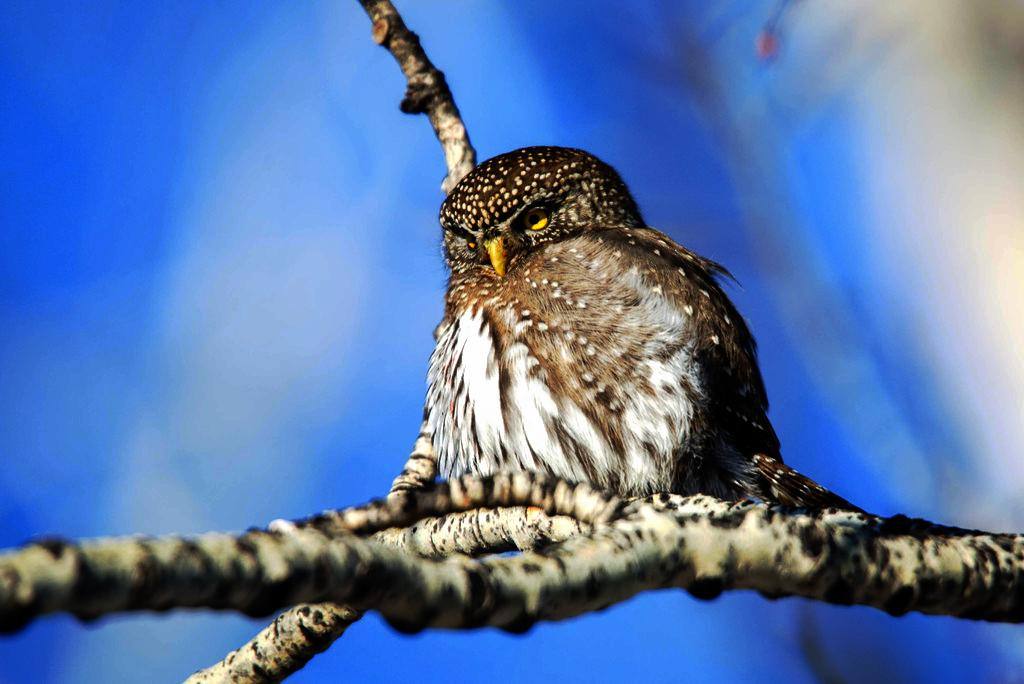Owl: (415, 144, 868, 534)
